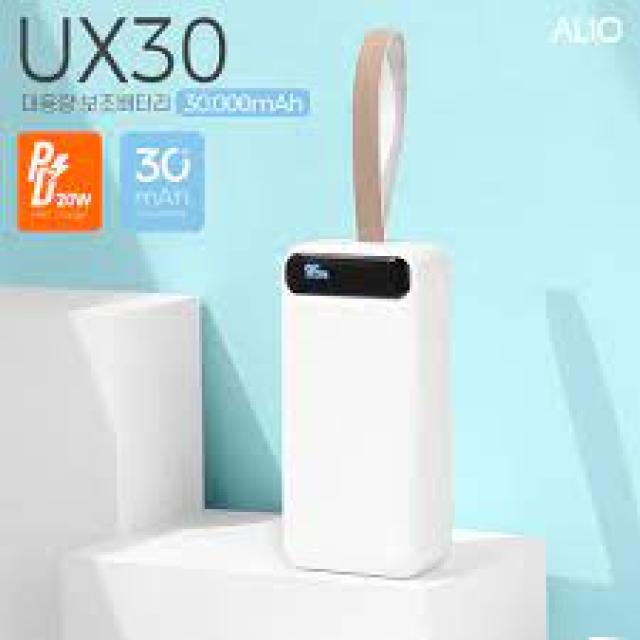power_bank: (282, 238, 461, 581)
